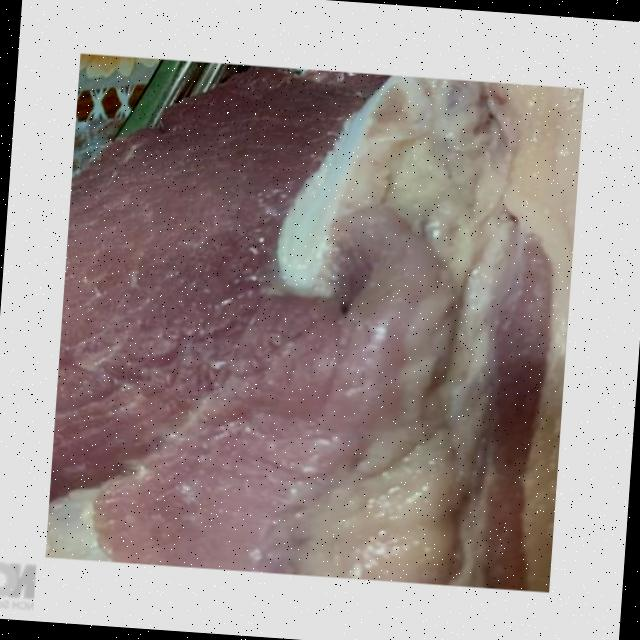rotten meat: (32, 30, 608, 614)
